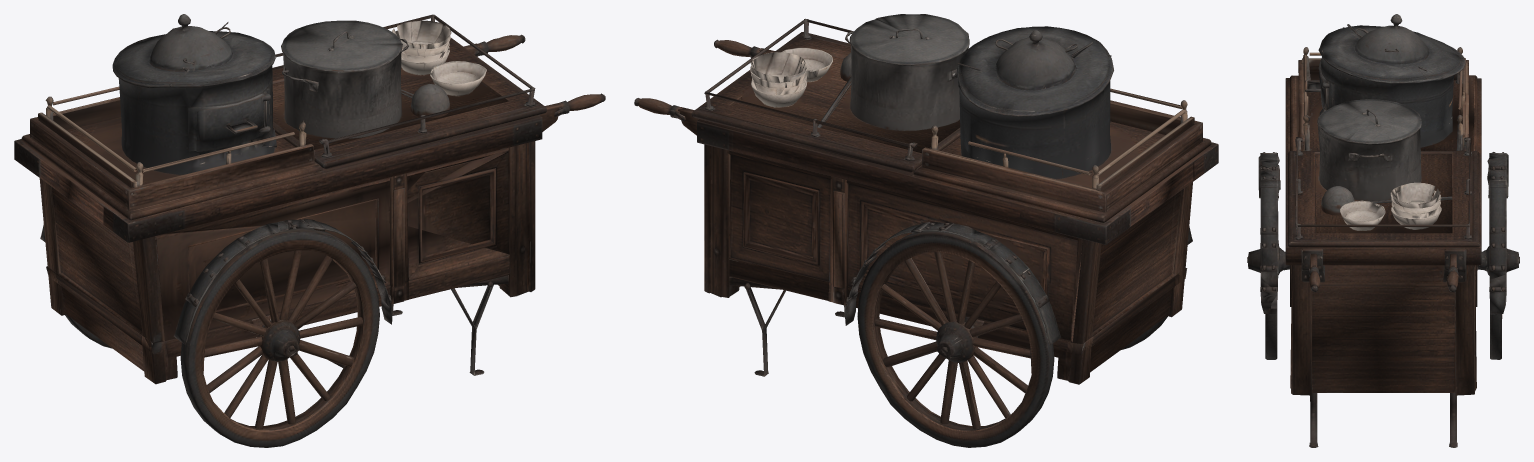
File: SoupCart.glb
The picture shows the model from 3 angles, left to right: view 1: azimuth 30°, elevation 25°; view 2: azimuth 150°, elevation 25°; view 3: azimuth 270°, elevation 25°; orthographic projection. The views are drawn at different scales.
Size of the model in its own units: 0.9512 by 0.7051 by 0.5303.
1 material, 1 textured.
